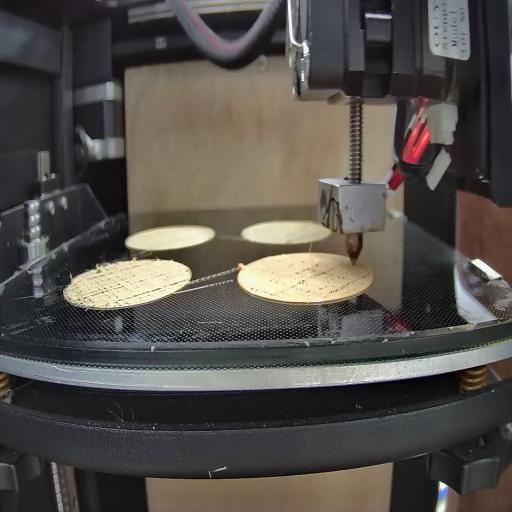under_extrusion: (69, 266, 167, 302), (286, 263, 372, 302), (248, 278, 272, 304), (170, 273, 192, 293)
